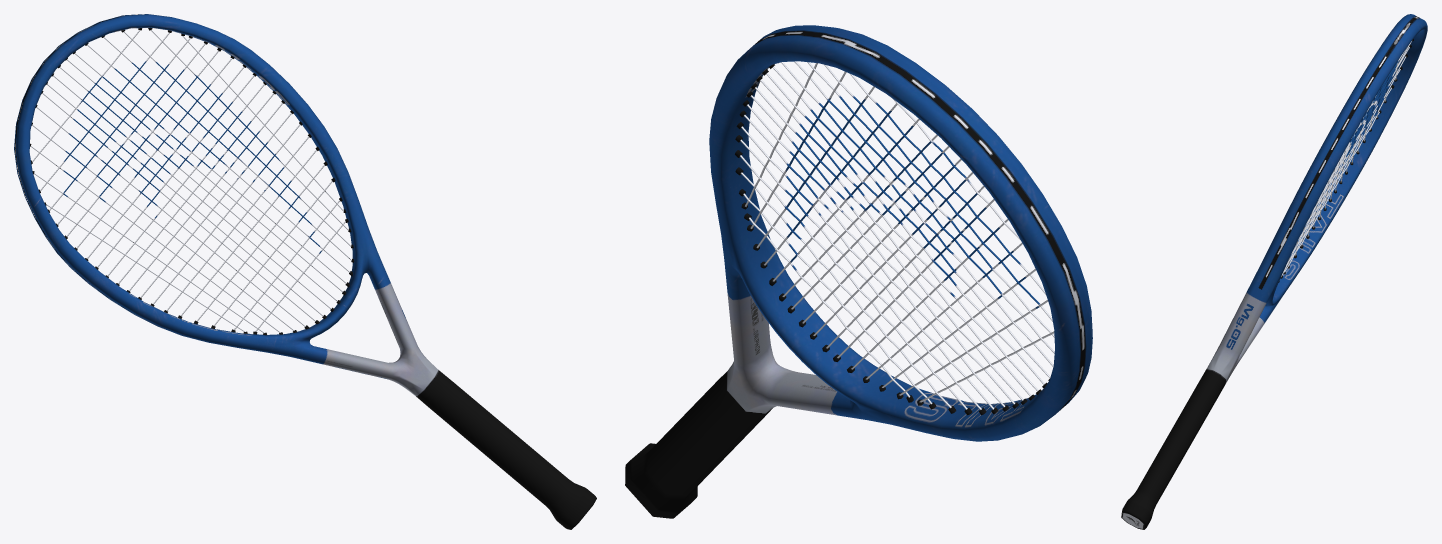
The model's file is tails_magnum_mg.05.glb.
3 views of the same model, side by side, from view 1: azimuth 30°, elevation 25°; view 2: azimuth 150°, elevation 25°; view 3: azimuth 270°, elevation 25° (orthographic). The views are drawn at different scales.
Visible parts, largest first — view 1: Tails_PowerShoot_r_low, Tails_PowerShoot_l_low, Tails_PowerShoot_lt_low; view 2: Tails_PowerShoot_r_low, Tails_PowerShoot_l_low, Tails_PowerShoot_lt_low; view 3: Tails_PowerShoot_r_low, Tails_PowerShoot_l_low.
Boxes of the visible parts, <box> form: Tails_PowerShoot_r_low: <box>14,14,596,529</box>; Tails_PowerShoot_l_low: <box>30,30,351,333</box>; Tails_PowerShoot_lt_low: <box>30,28,354,335</box>; Tails_PowerShoot_r_low: <box>625,25,1092,518</box>; Tails_PowerShoot_l_low: <box>740,61,1054,409</box>; Tails_PowerShoot_lt_low: <box>735,63,1049,415</box>; Tails_PowerShoot_r_low: <box>1121,14,1427,529</box>; Tails_PowerShoot_l_low: <box>1281,41,1411,276</box>.
Size of the model in its own units: 48.43 by 50.92 by 36.16.
Materials: 1 (1 with a texture image).
